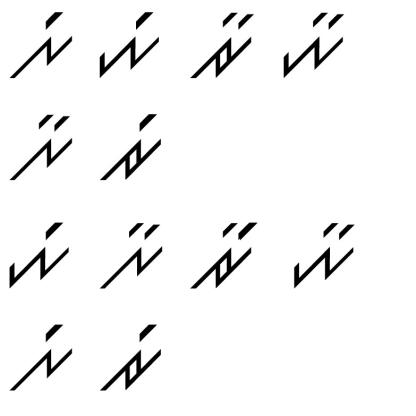lan: (96, 221, 166, 298), (6, 111, 76, 184)
lang: (8, 322, 79, 396), (8, 8, 76, 84)
ran: (189, 217, 260, 299), (191, 8, 257, 83)
rang: (98, 315, 165, 397), (96, 109, 166, 184)
yan: (278, 8, 350, 81), (289, 218, 363, 288)
yang: (95, 10, 166, 82), (5, 218, 74, 289)
